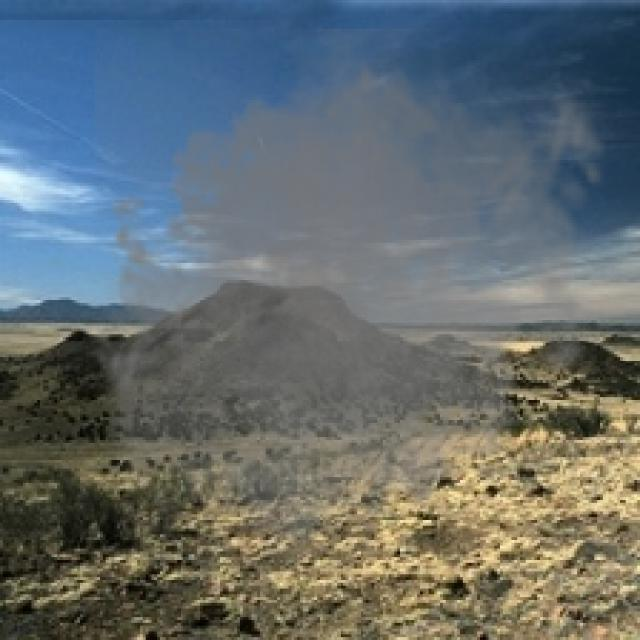Smoke: (83, 28, 620, 583)
